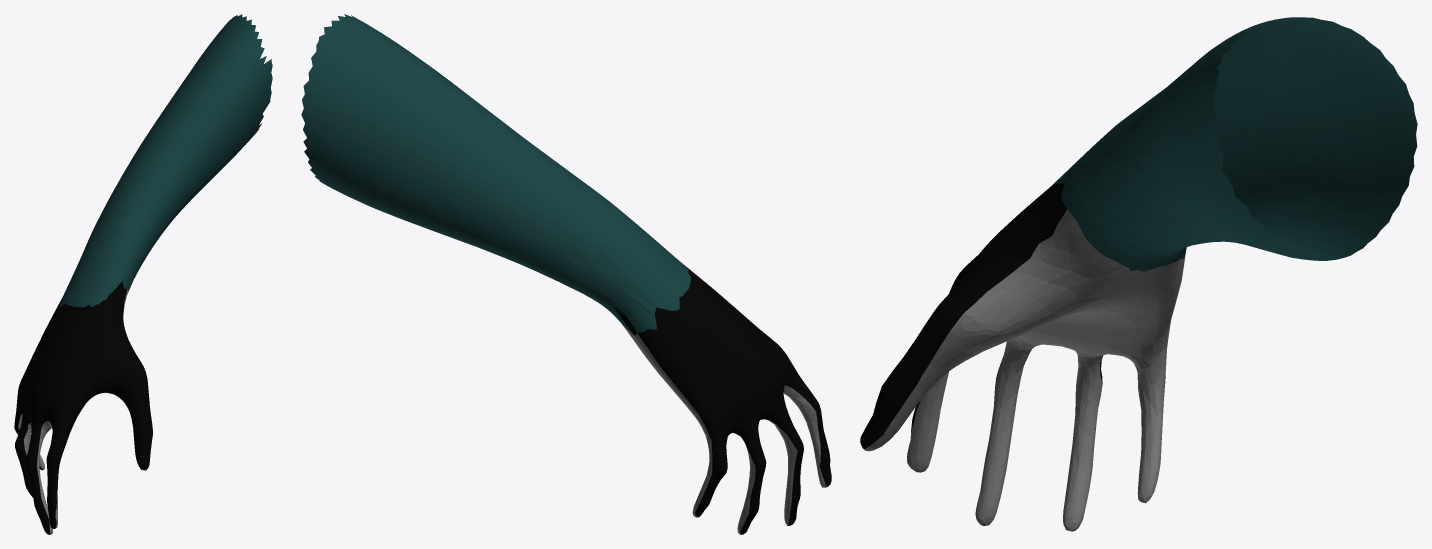
Rendered from Brazoo para unity.fbx.
The picture shows the model from 3 angles, left to right: view 1: azimuth 30°, elevation 25°; view 2: azimuth 150°, elevation 25°; view 3: azimuth 270°, elevation 25°; orthographic projection. The views are drawn at different scales.
Parts seen in each view (by area): view 1: Brazo_3:Group61567 (×3); view 2: Brazo_3:Group61567 (×3); view 3: Brazo_3:Group61567 (×3).
Part boxes in pixels (<box>): Brazo_3:Group61567 (×3): <box>14,14,272,534</box>; Brazo_3:Group61567 (×3): <box>301,14,831,534</box>; Brazo_3:Group61567 (×3): <box>860,17,1417,531</box>.
Bounding box in the file's own units: 43.15 × 54.06 × 34.96.
